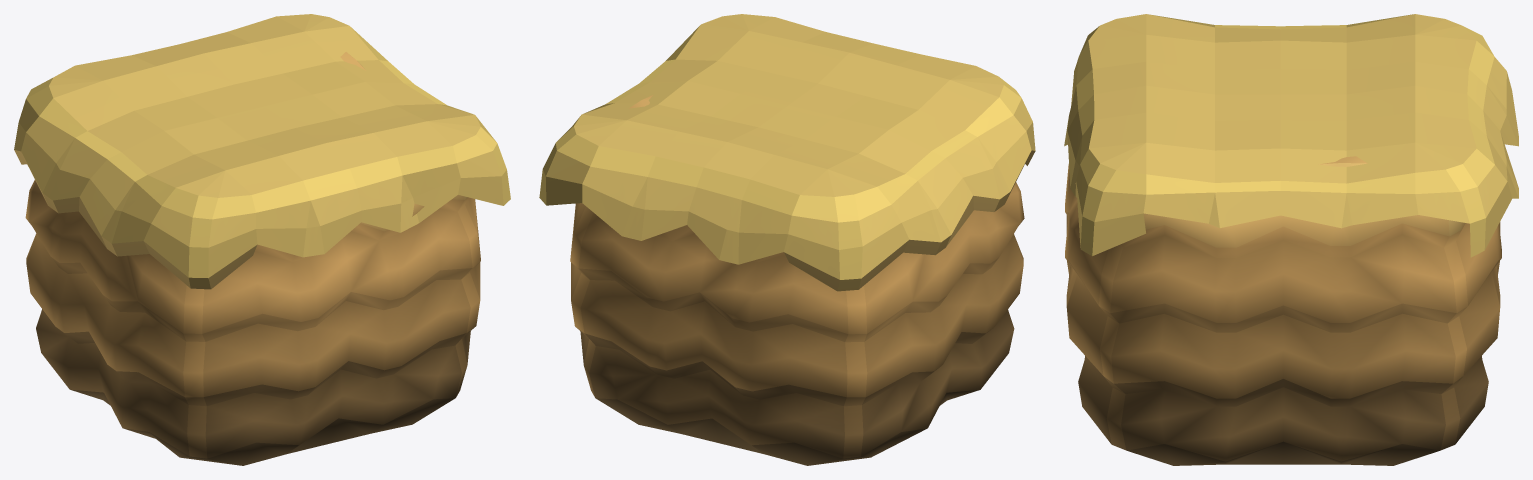
The model's file is Deset_Cube_Blok.fbx.
3 views of the same model, side by side, from view 1: azimuth 30°, elevation 25°; view 2: azimuth 150°, elevation 25°; view 3: azimuth 270°, elevation 25° (orthographic). The views are drawn at different scales.
Visible parts, largest first — view 1: Desert_Cube_03 .002; view 2: Desert_Cube_03 .002; view 3: Desert_Cube_03 .002.
Part boxes in pixels (x1=…): Desert_Cube_03 .002: x1=14, y1=14, x2=510, y2=465; Desert_Cube_03 .002: x1=539, y1=14, x2=1035, y2=465; Desert_Cube_03 .002: x1=1064, y1=14, x2=1518, y2=465.
Bounding box in the file's own units: 91410 × 73763 × 92448.
